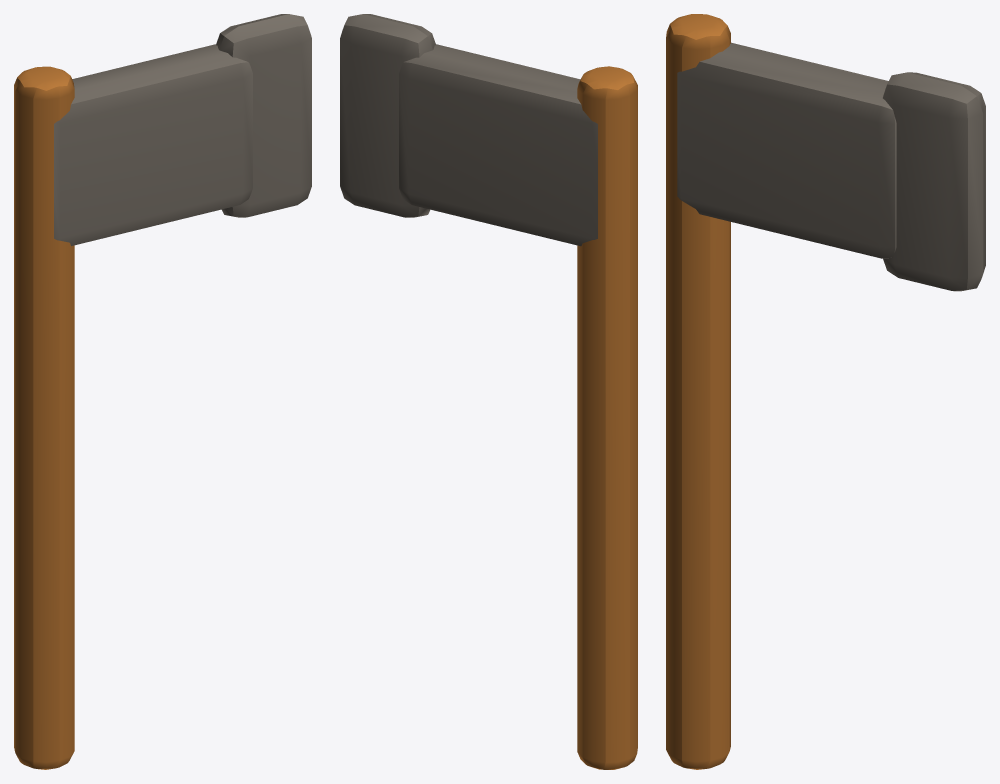
File: equip_axe_basic.glb
3 renders of one model, left to right at view 1: azimuth 30°, elevation 25°; view 2: azimuth 150°, elevation 25°; view 3: azimuth 330°, elevation 25°, orthographic. The views are drawn at different scales.
Parts seen in each view (by area): view 1: axe_handle, axe_head, axe_blade; view 2: axe_handle, axe_head, axe_blade; view 3: axe_handle, axe_head, axe_blade.
Part boxes in pixels (box(x1,y1,x2,y2)): axe_handle: box(14, 66, 74, 769); axe_head: box(54, 44, 252, 245); axe_blade: box(216, 14, 311, 217); axe_handle: box(577, 66, 637, 769); axe_head: box(399, 44, 597, 246); axe_blade: box(340, 14, 435, 217); axe_handle: box(666, 14, 730, 769); axe_head: box(677, 42, 896, 258); axe_blade: box(883, 72, 985, 291).
Bounding box in the file's own units: 0.3184 × 0.72 × 0.06.
